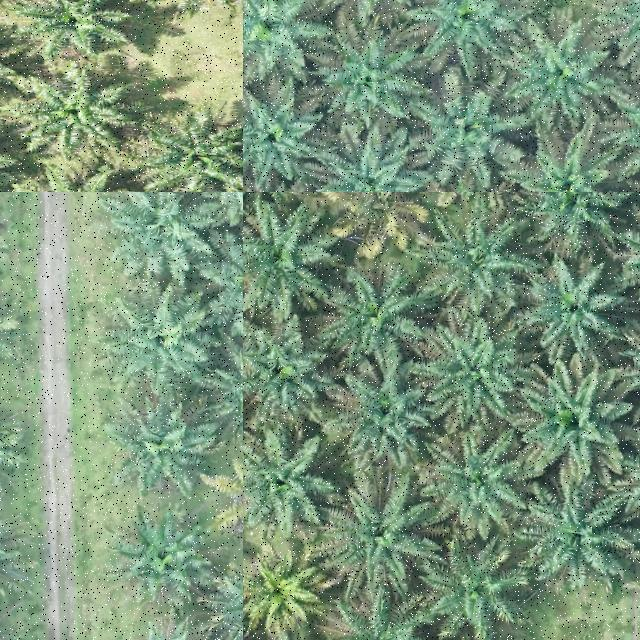Ganoderma: (244, 560, 312, 624), (222, 468, 243, 536)
